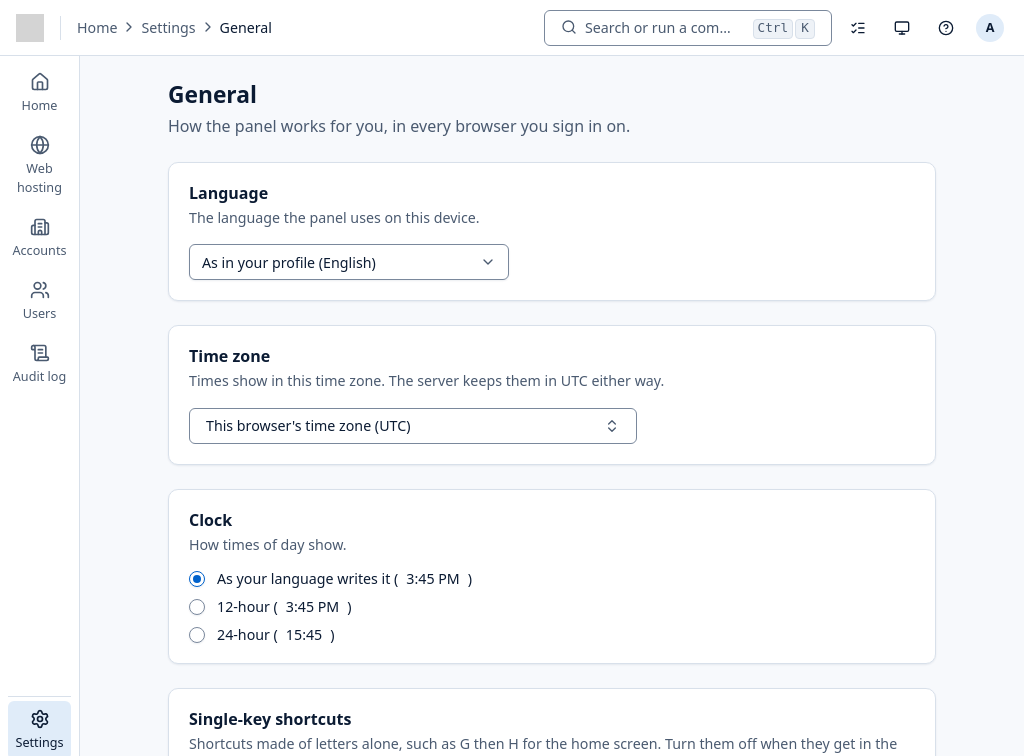
preferences kept with the account › offer the profile's language where a browser would otherwise follow its own
Click the dropdown named "Language": (349, 262) [189,244,509,280]
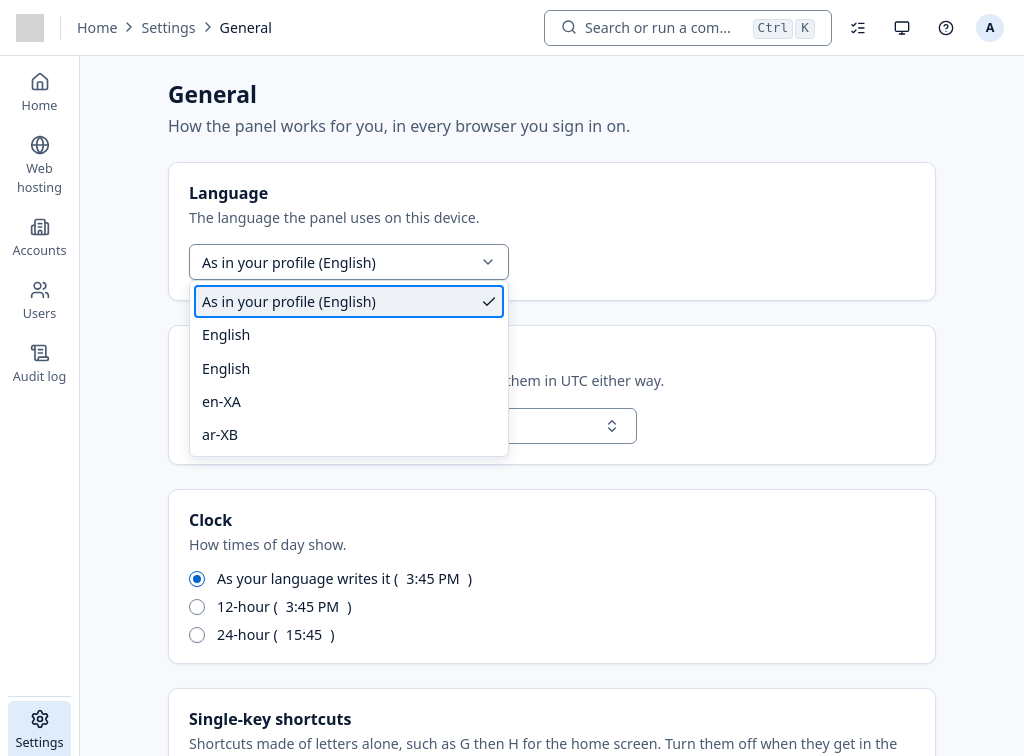
Now the option "As in your profile (English)" is shown, box [194,285,504,318]
